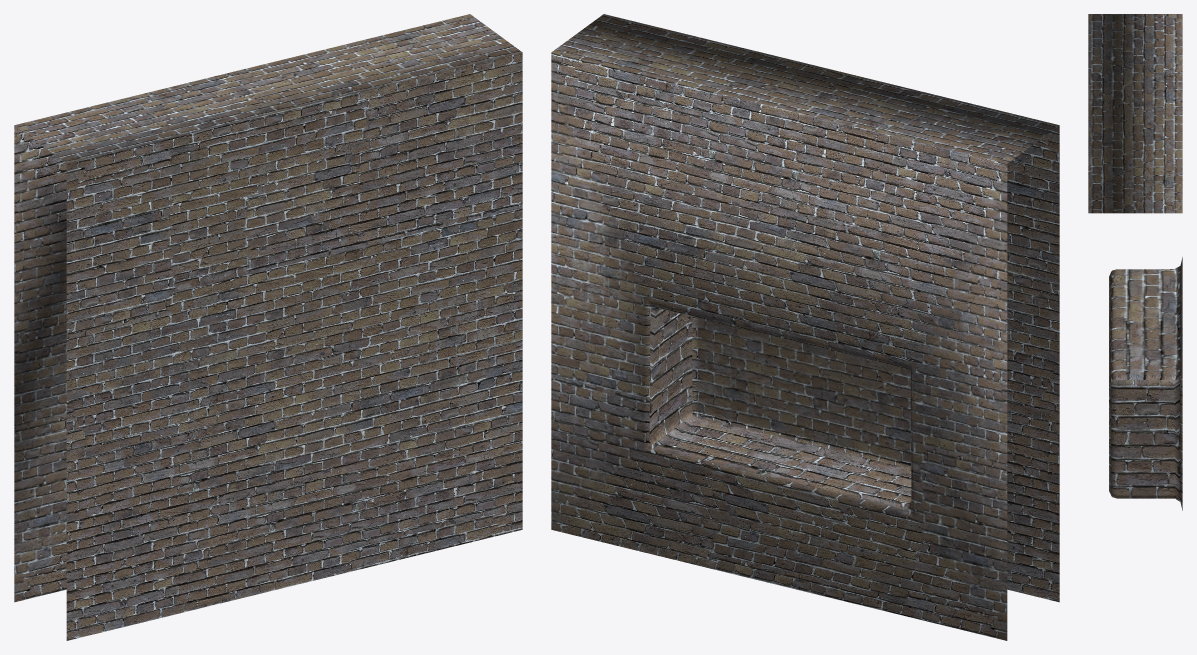
File: Wall_Inset.fbx
The picture shows the model from 3 angles, left to right: view 1: azimuth 30°, elevation 25°; view 2: azimuth 150°, elevation 25°; view 3: azimuth 270°, elevation 25°; orthographic projection. The views are drawn at different scales.
Parts seen in each view (by area): view 1: Wall_Inset; view 2: Wall_Inset; view 3: Wall_Inset.
Part boxes in pixels (x1,y1,x2,y2): Wall_Inset: (14,14,522,640); Wall_Inset: (551,14,1059,640); Wall_Inset: (1088,14,1182,510).
Bounding box in the file's own units: 5 × 5 × 1.
1 material, 1 textured.
